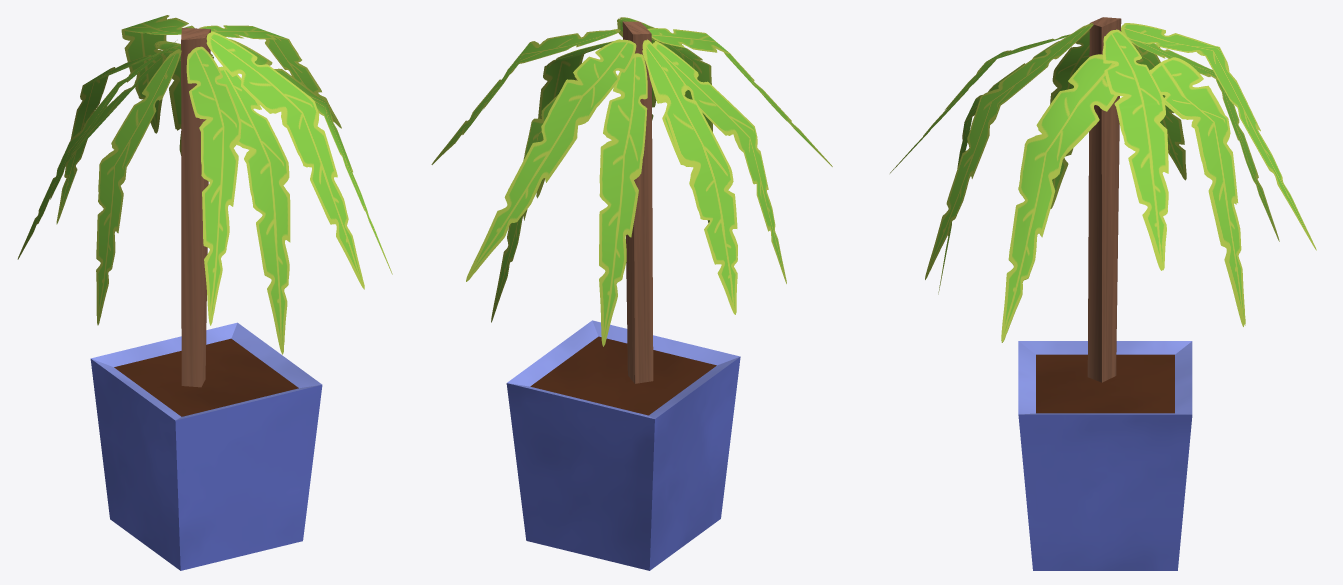
File: SM_PlantPot.fbx
3 views of the same model, side by side, from view 1: azimuth 30°, elevation 25°; view 2: azimuth 150°, elevation 25°; view 3: azimuth 270°, elevation 25° (orthographic). The views are drawn at different scales.
Parts seen in each view (by area): view 1: SM_PlantPot; view 2: SM_PlantPot; view 3: SM_PlantPot.
Boxes of the visible parts, box(x1,y1,x2,y2) form: SM_PlantPot: box(17, 15, 392, 570); SM_PlantPot: box(431, 17, 832, 570); SM_PlantPot: box(890, 17, 1316, 570).
Bounding box in the file's own units: 0.5983 × 0.8714 × 0.6875.
